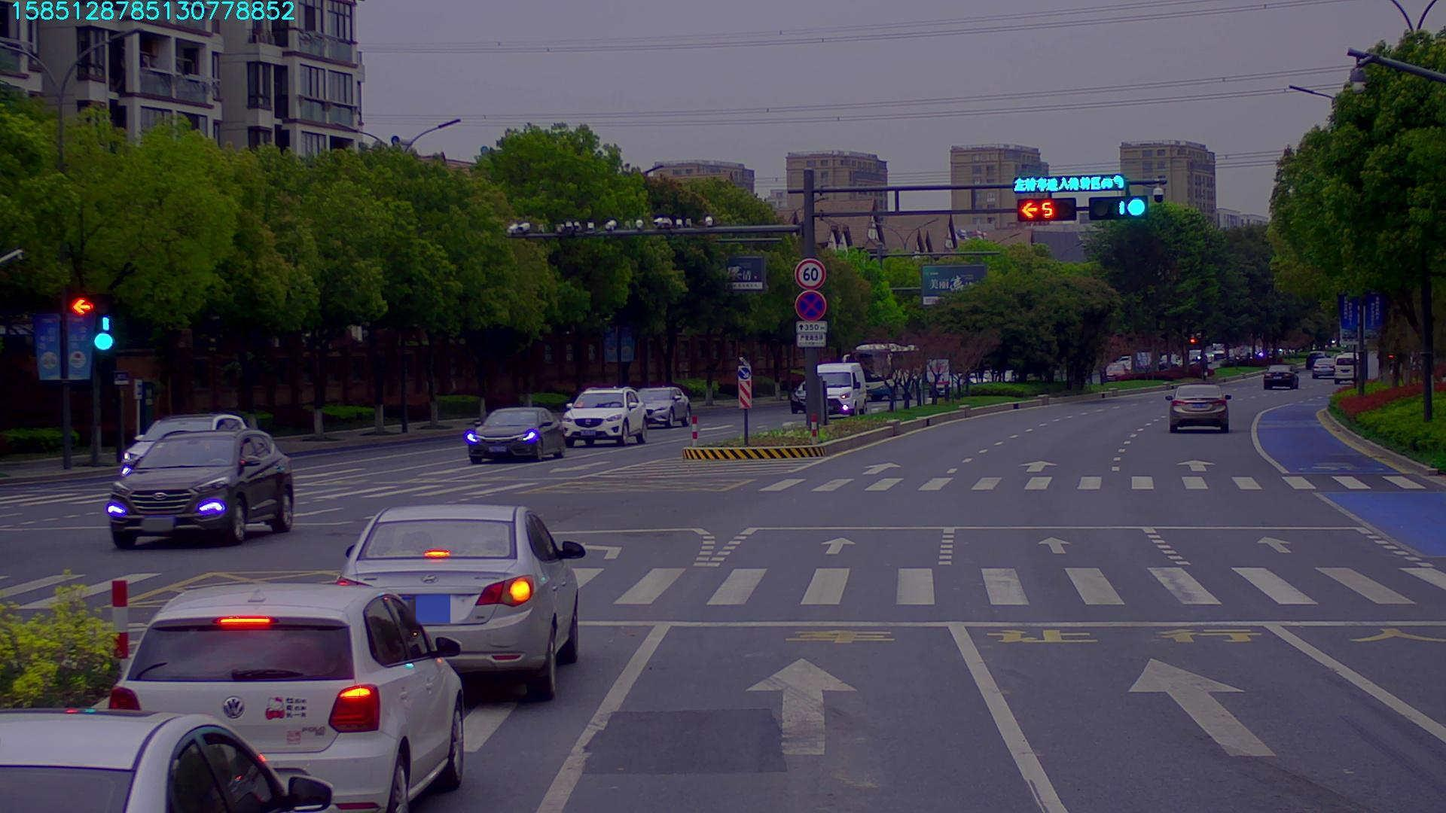green: (1088, 195, 1147, 212)
red: (1017, 199, 1076, 224)
wait_on: (1013, 172, 1126, 193)
